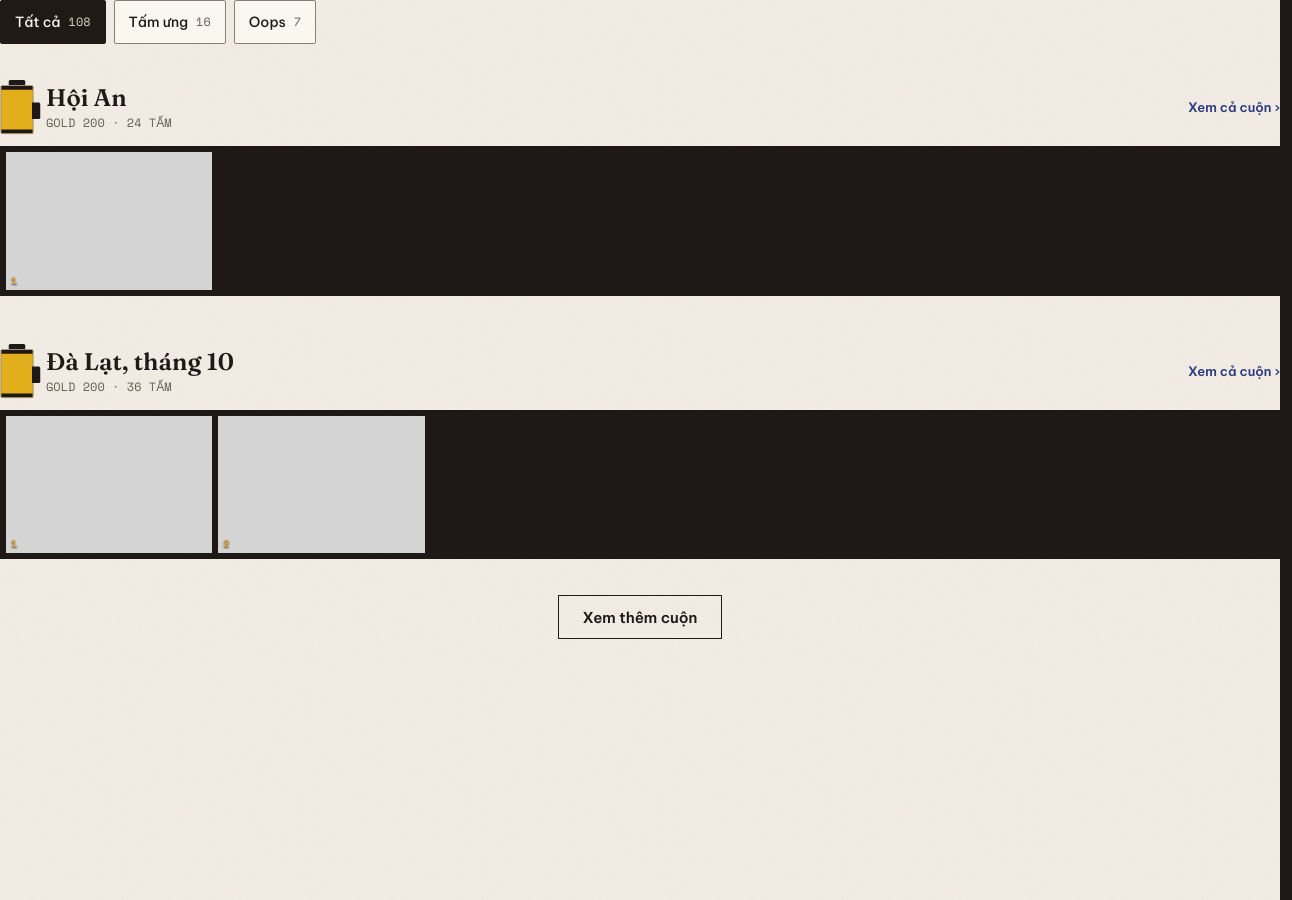
Test: LibraryGrid (COL-3) › doesn't double a group a refresh between pages sends again (Ruling R27)
Step 1. Click the button "Xem thêm cuộn" → [640, 617], box [558,595,722,639]
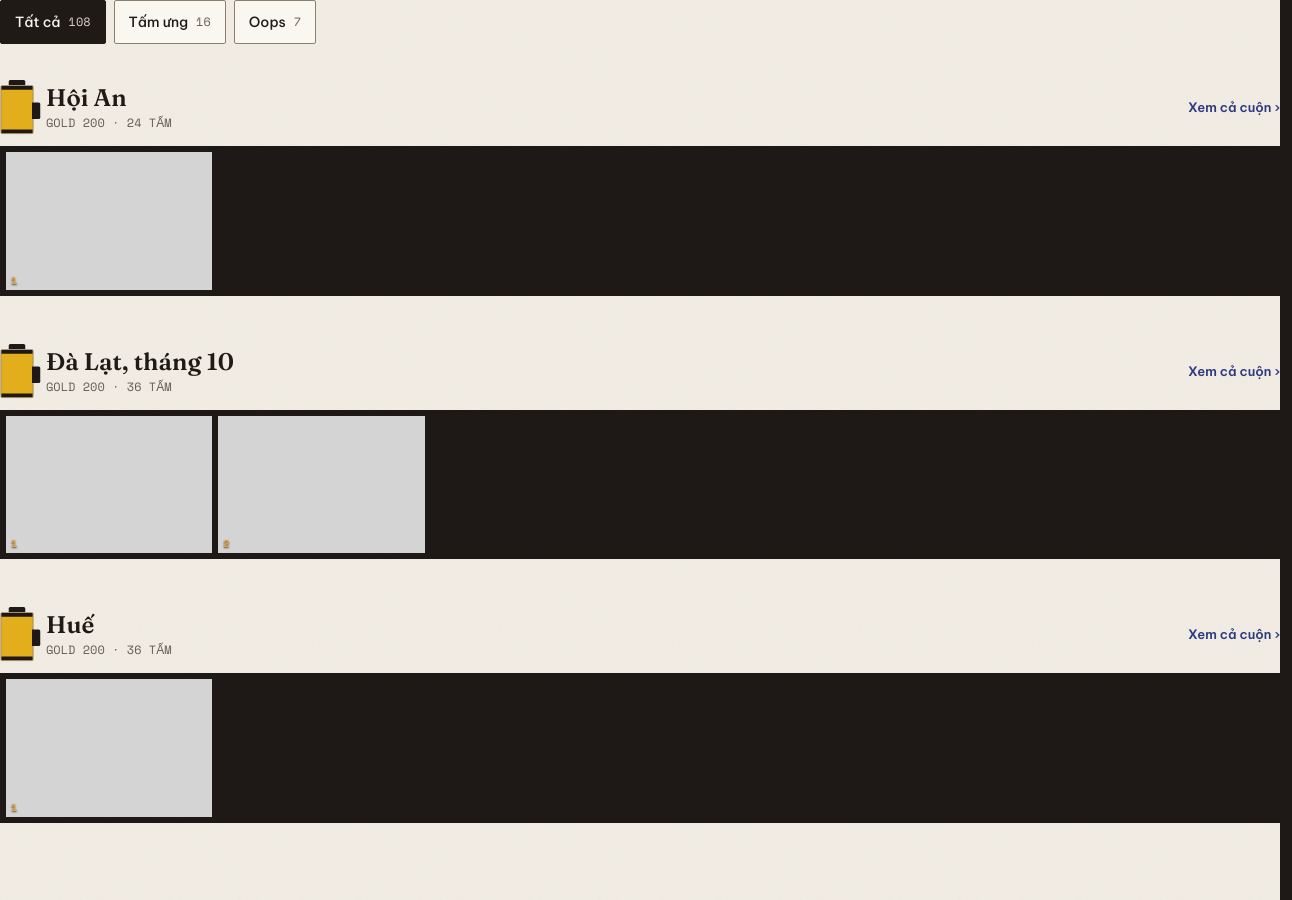
Result: the heading "Huế" is shown at [46,610,94,639]
